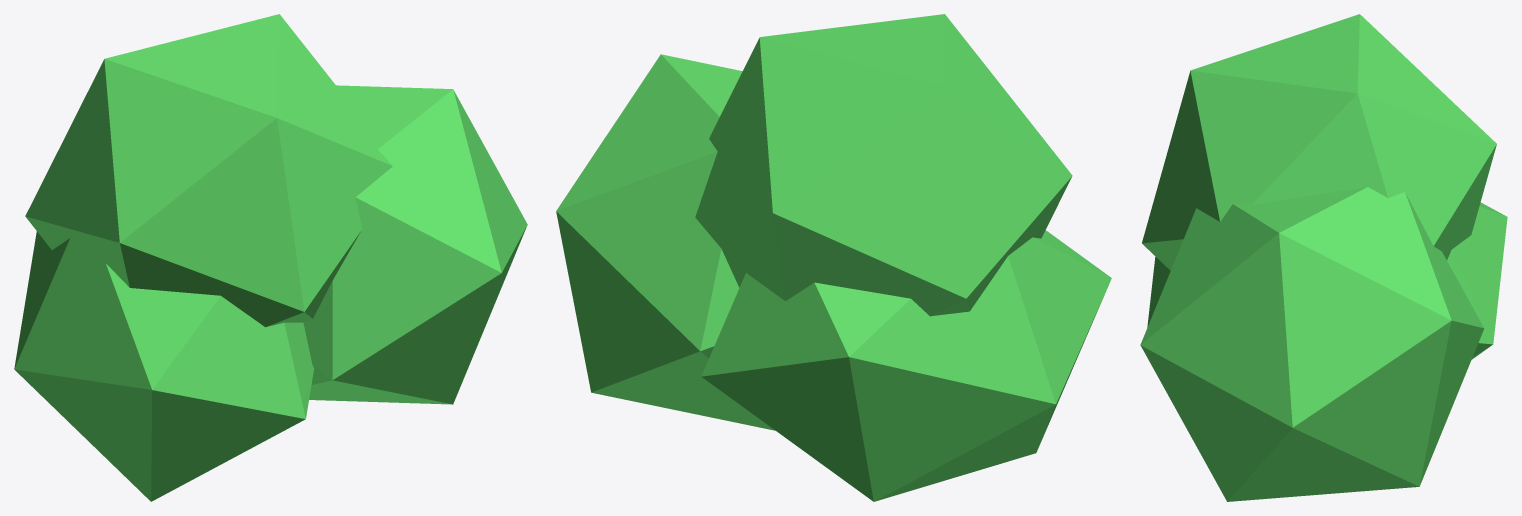
File: krzaczek2.gltf
3 renders of one model, left to right at view 1: azimuth 30°, elevation 25°; view 2: azimuth 150°, elevation 25°; view 3: azimuth 270°, elevation 25°, orthographic. The views are drawn at different scales.
Visible parts, largest first — view 1: Icosphere.017, Icosphere.018, Icosphere.016; view 2: Icosphere.017, Icosphere.018, Icosphere.016; view 3: Icosphere.016, Icosphere.017, Icosphere.018.
Boxes of the visible parts, bbox=[...] form: Icosphere.017: bbox=[25, 14, 392, 327]; Icosphere.018: bbox=[14, 231, 314, 501]; Icosphere.016: bbox=[303, 85, 527, 404]; Icosphere.017: bbox=[695, 14, 1072, 316]; Icosphere.018: bbox=[701, 230, 1111, 501]; Icosphere.016: bbox=[556, 54, 775, 430]; Icosphere.016: bbox=[1140, 187, 1484, 501]; Icosphere.017: bbox=[1142, 14, 1496, 270]; Icosphere.018: bbox=[1147, 202, 1507, 359].
Size of the model in its own units: 2.18 by 1.68 by 1.46.
